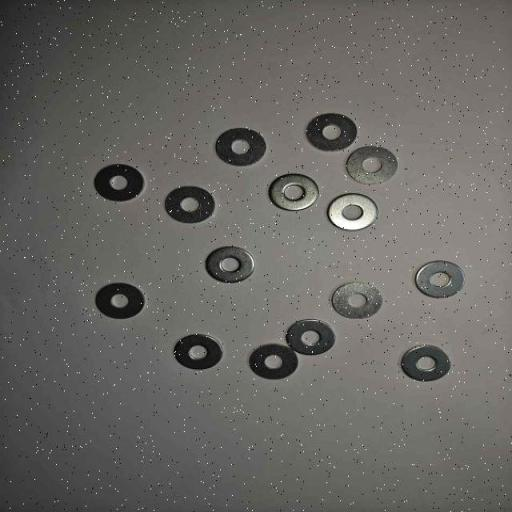washer: (346, 145, 398, 185), (326, 192, 380, 230), (306, 113, 358, 152), (94, 163, 144, 202), (268, 173, 319, 211), (414, 260, 465, 298), (331, 282, 383, 319), (216, 128, 266, 166), (401, 344, 451, 382), (164, 186, 215, 223), (94, 283, 145, 320), (206, 245, 255, 283), (173, 333, 223, 370), (248, 343, 298, 380), (286, 319, 335, 355)
